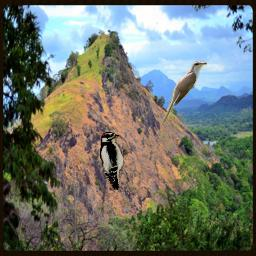Cuckoo: (161, 61, 207, 125)
Woodpecker: (100, 132, 130, 190)
